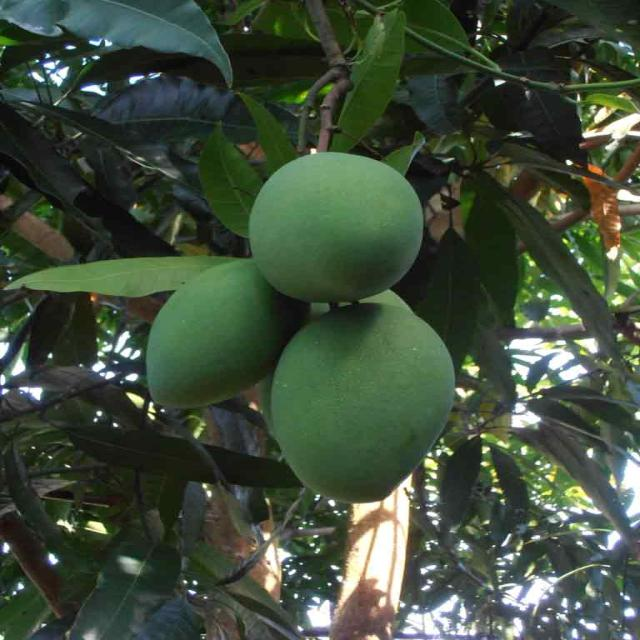mango: (250, 276, 467, 507), (253, 150, 440, 307), (149, 262, 304, 406)
